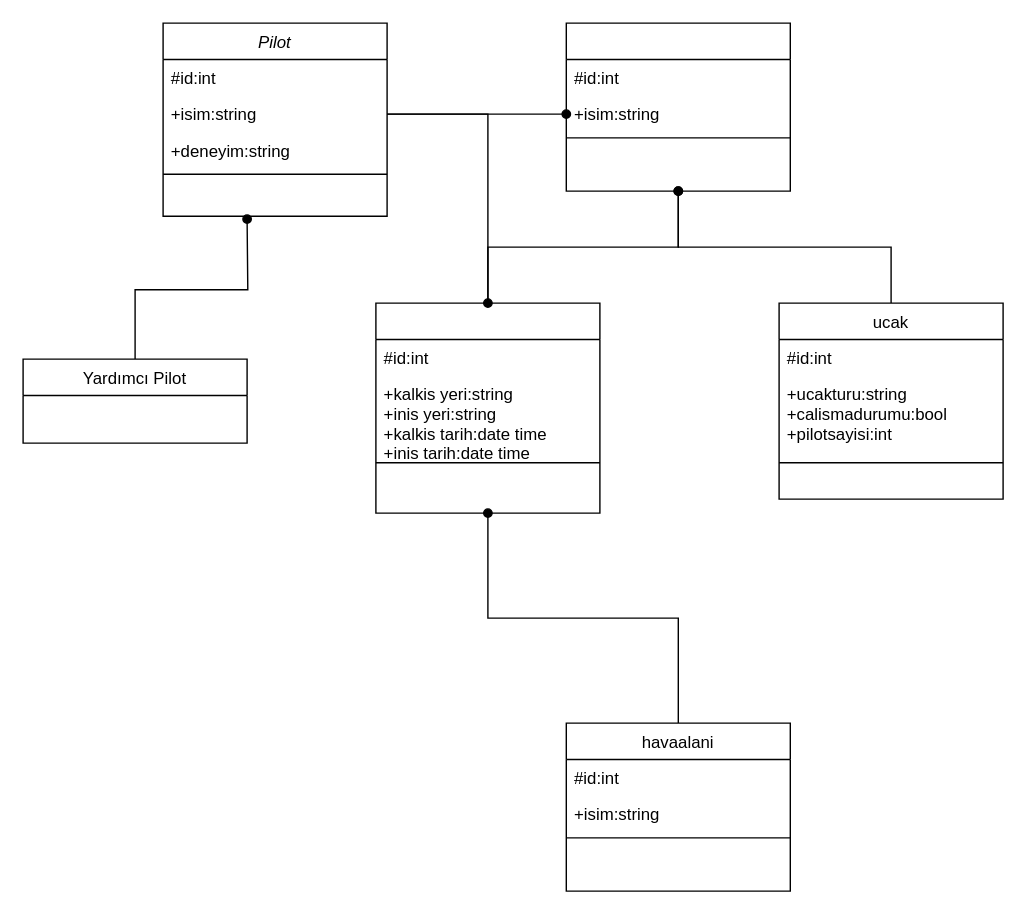
The diagram is 1026 pixels wide and 914 high, and some of its shapes have lost their labels. Here are the shapes that lost their labels. From the top down, the box of each, then its label:
(565, 22, 790, 191): HavayoluSirketi
(374, 302, 600, 513): ucus
